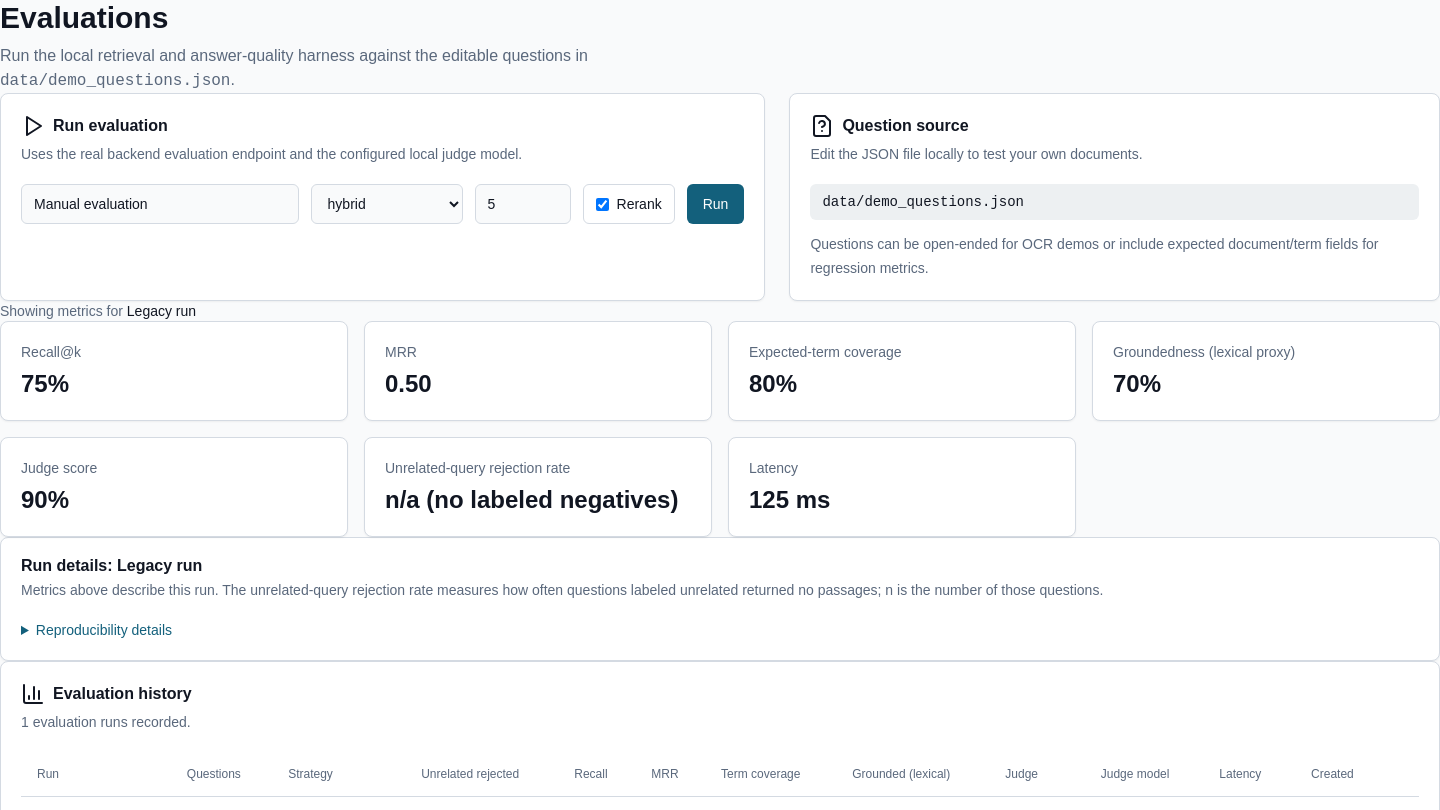
Test case: release status visibility › does not present unrecorded pre-1.1.0 configuration as values
Expected: the heading "Run details: Legacy run" is shown, left=21, top=557, right=202, bottom=574
Click the heading "Reproducibility details" at {"x": 104, "y": 630}, box left=36, top=622, right=172, bottom=638
(page scrolled)
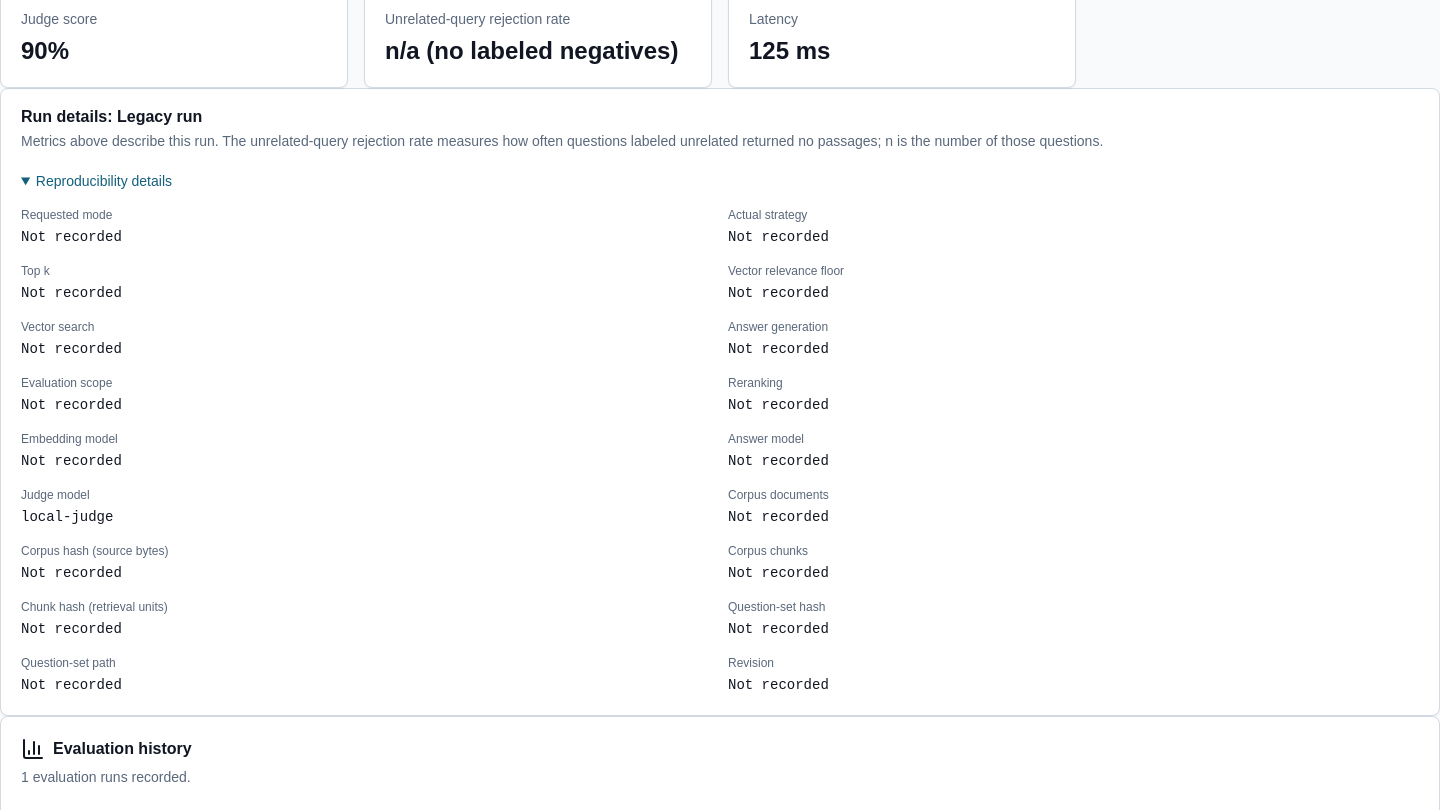
Expected: the text "Not recorded" below "Requested mode" is shown, left=21, top=229, right=122, bottom=245
Expected: the text "Not recorded" below "Actual strategy" is shown, left=728, top=229, right=829, bottom=245
Expected: the text "Not recorded" below "Top k" is shown, left=21, top=285, right=122, bottom=301
